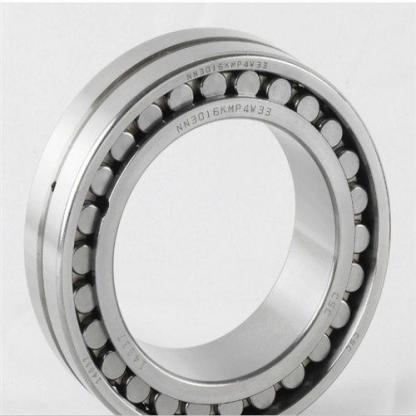FOD: (21, 22, 393, 415)
